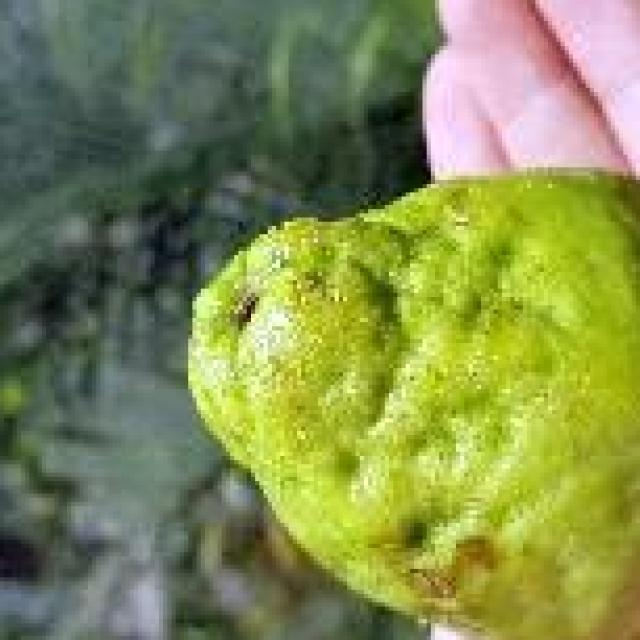Good_Guava 5-7 days: (188, 172, 640, 640)
